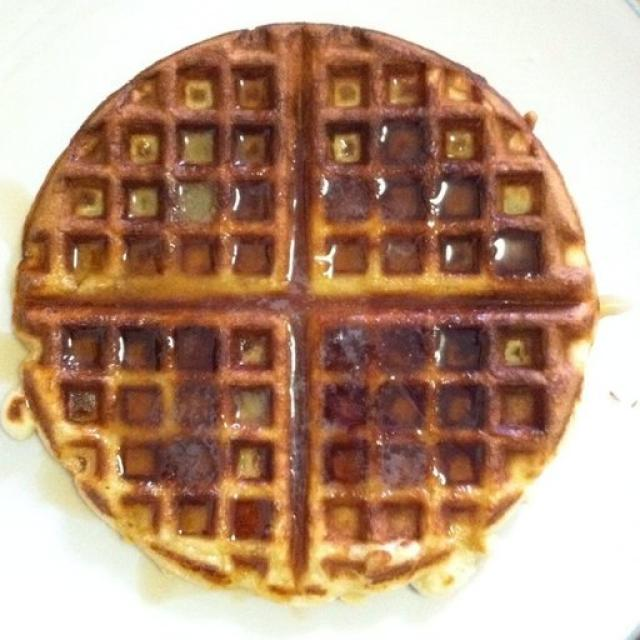Food -Biodegradable-: (7, 17, 602, 606)
